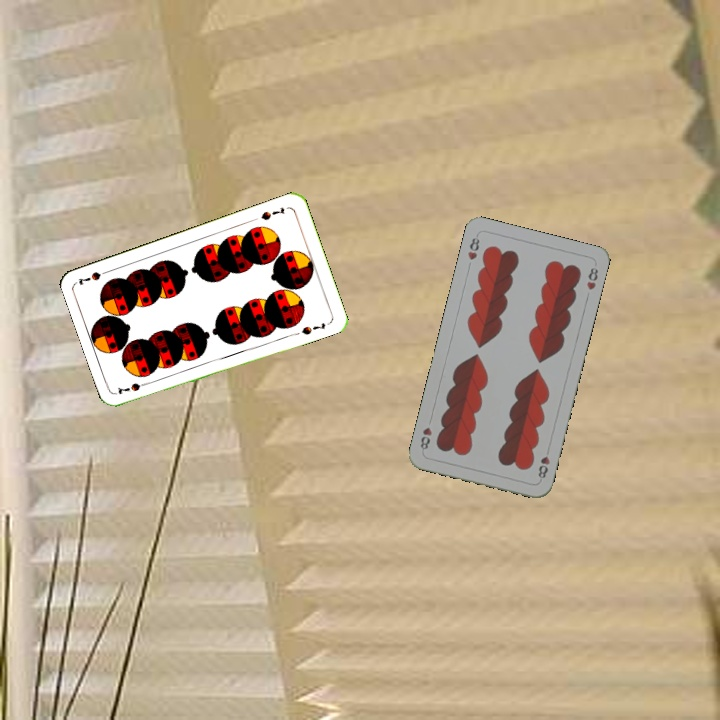H8: (464, 231, 482, 263), (534, 452, 552, 483)
S7: (114, 377, 153, 397), (257, 203, 287, 223)
